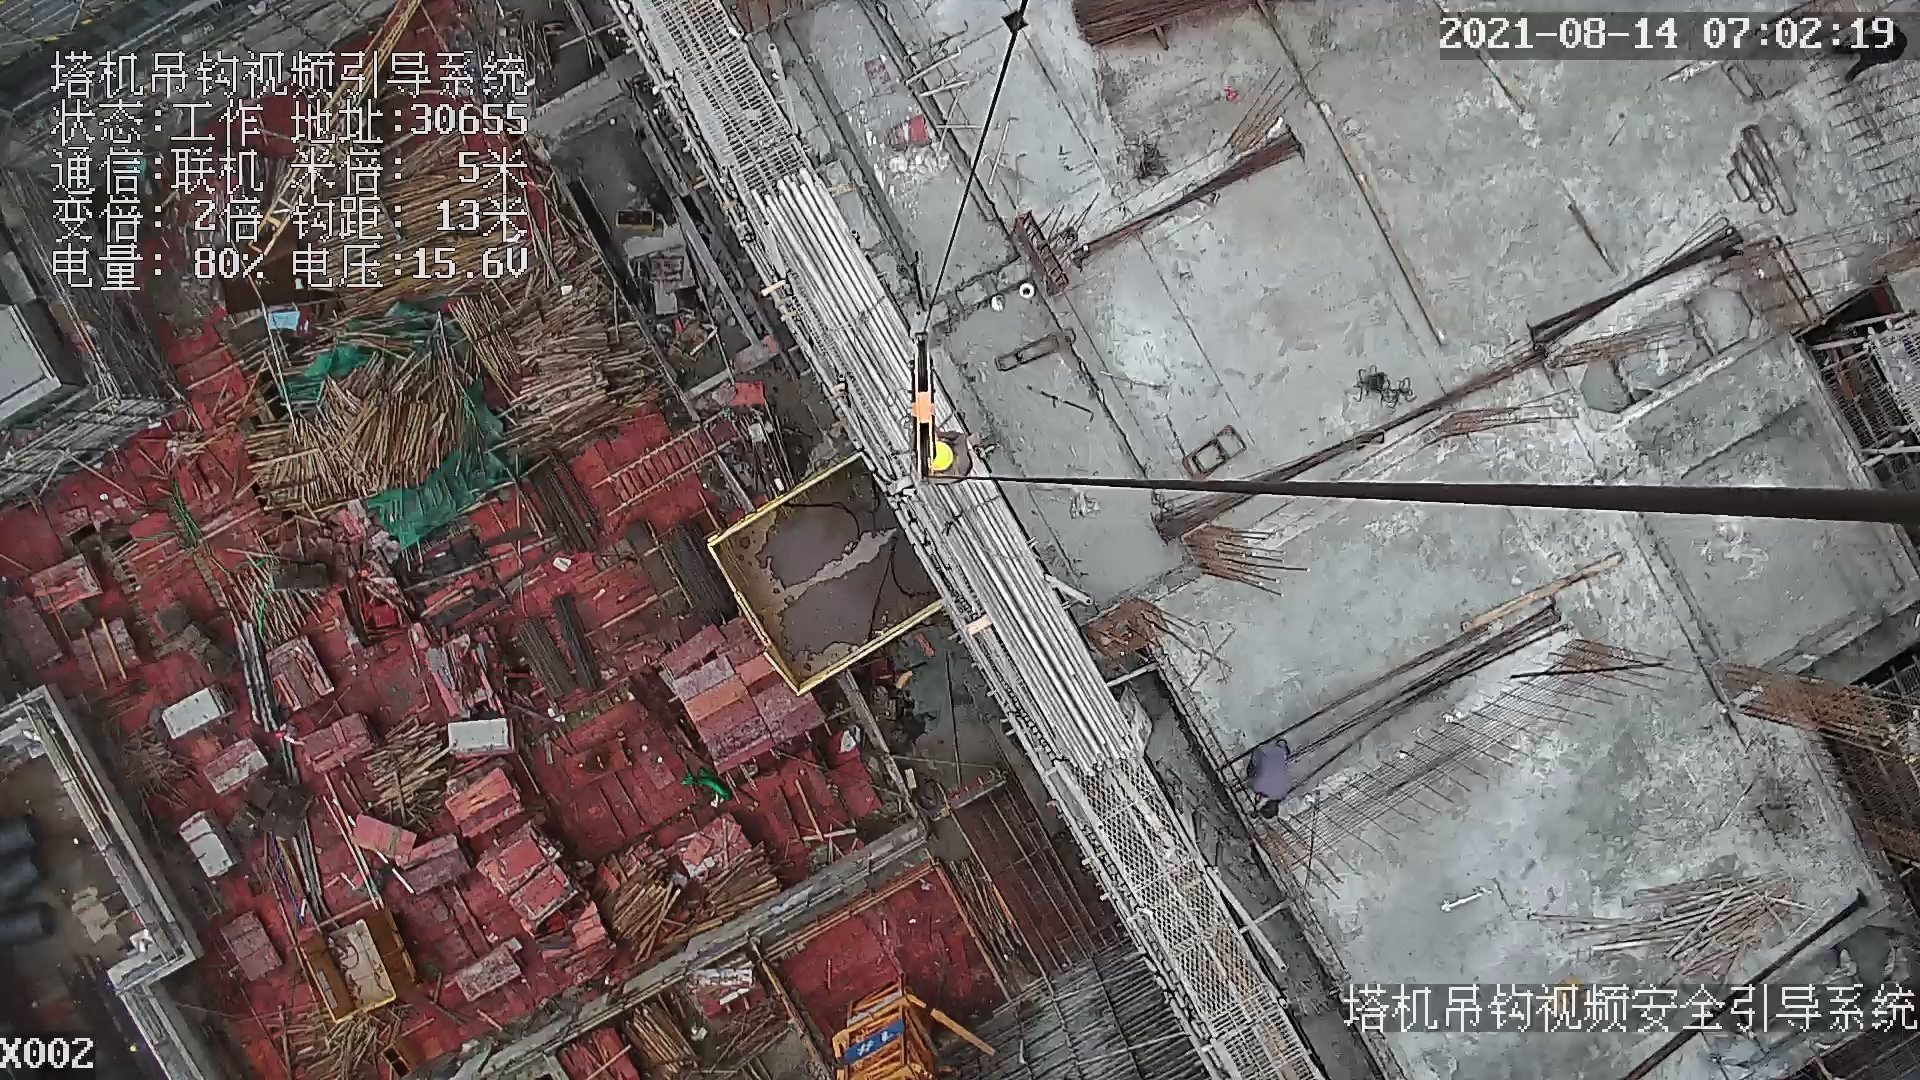helmet: (935, 441, 953, 470)
hook: (897, 336, 946, 490)
person: (1246, 740, 1297, 824), (936, 428, 974, 482)
slogan: (844, 1021, 913, 1063)
